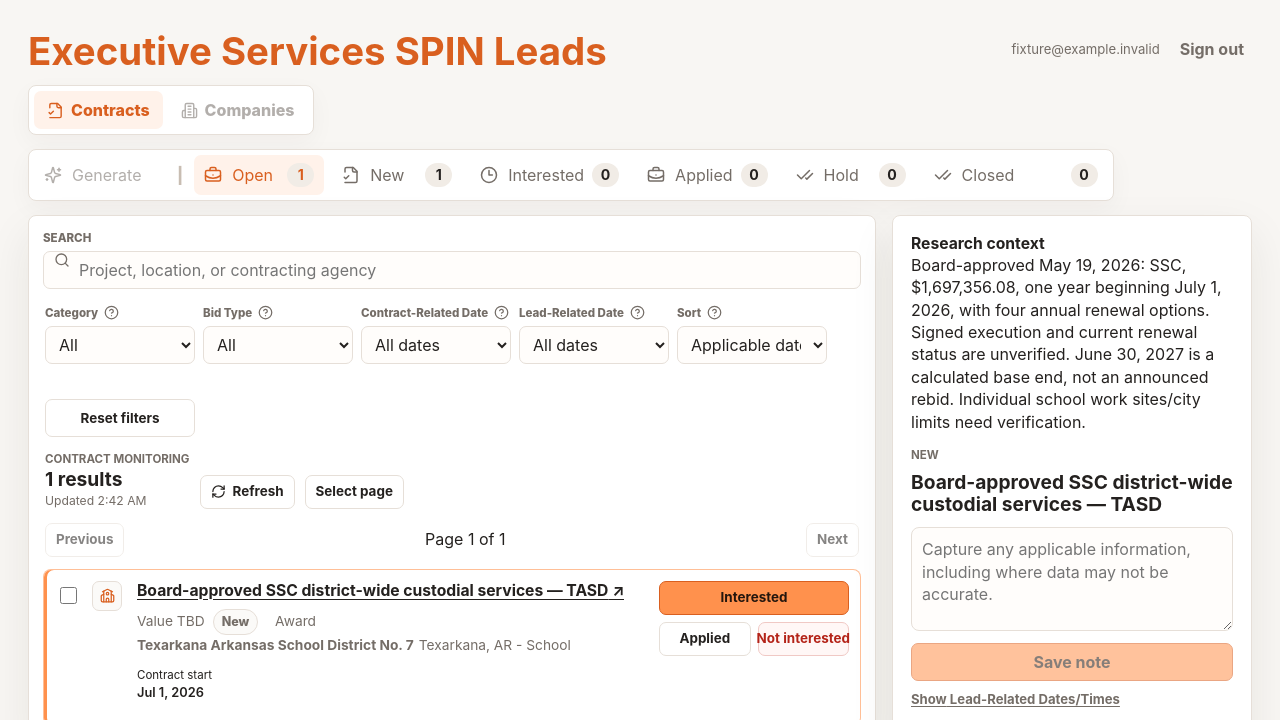
shows a saved stage and retry message when its history refresh fails
The width and height of the screenshot is (1280, 720).
Expected: the element "Research context" is shown, [911,234,1233,433]
Click the button "Interested": (754, 598) [659,581,849,615]
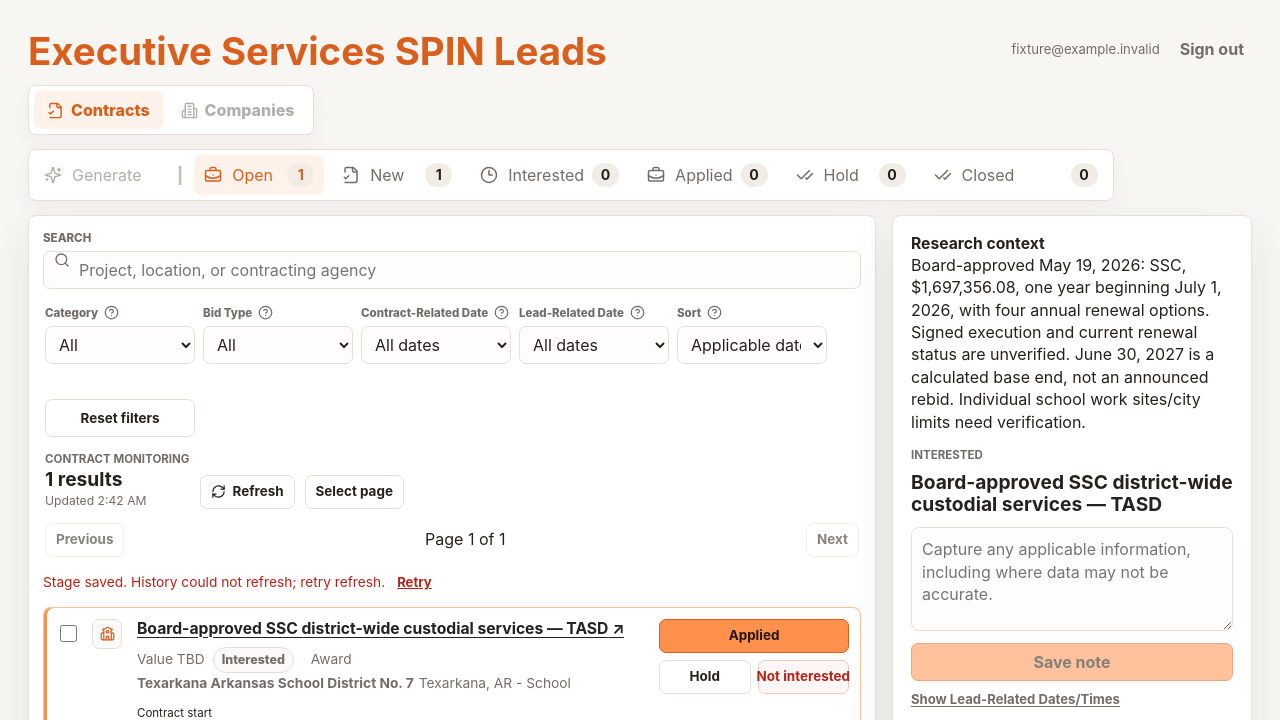
Now the text "Stage saved. History could not refresh; retry refresh." is shown, box [43,573,385,592]
Now the button "Hold" is shown, box [659,660,750,694]
